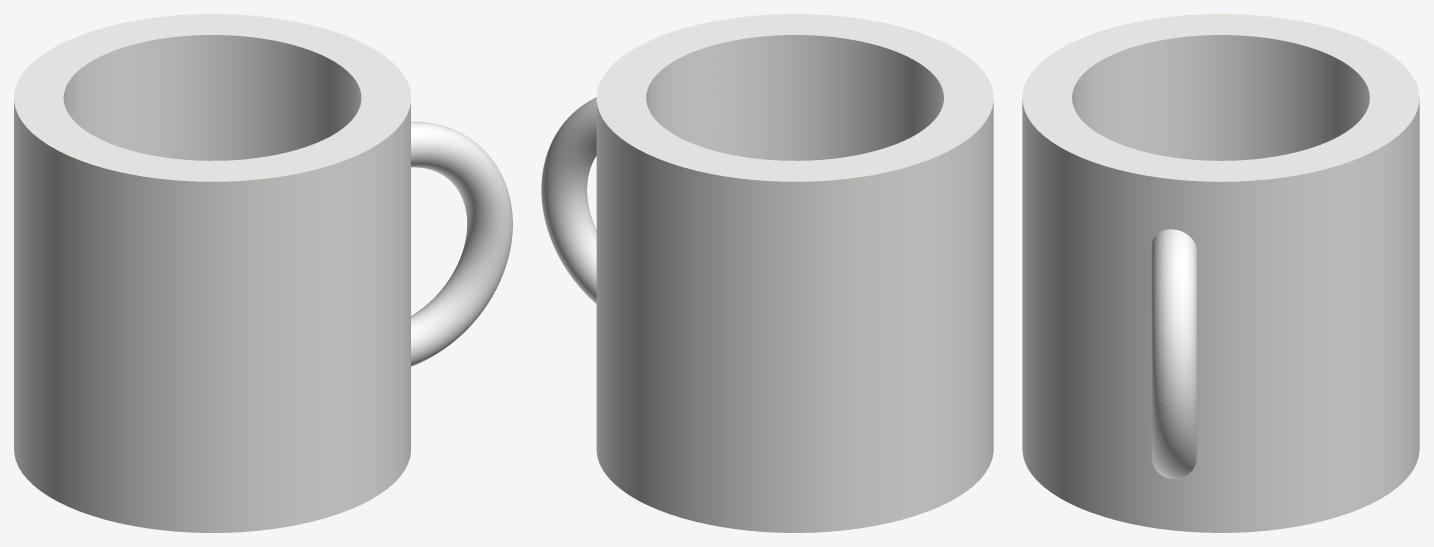
The model's file is coffee_mug.glb.
3 views of the same model, side by side, from view 1: azimuth 30°, elevation 25°; view 2: azimuth 150°, elevation 25°; view 3: azimuth 270°, elevation 25° (orthographic).
Visible parts, largest first — view 1: Object_5, Object_11, Object_9; view 2: Object_5, Object_9, Object_11; view 3: Object_5, Object_9, Object_11.
Part boxes in pixels (left/top/right/bottom): Object_5: left=14, top=14, right=410, bottom=532; Object_11: left=411, top=224, right=512, bottom=366; Object_9: left=411, top=121, right=512, bottom=233; Object_5: left=596, top=14, right=993, bottom=532; Object_9: left=541, top=97, right=596, bottom=199; Object_11: left=541, top=191, right=596, bottom=303; Object_5: left=1022, top=14, right=1419, bottom=532; Object_9: left=1151, top=229, right=1197, bottom=402; Object_11: left=1151, top=394, right=1197, bottom=478.
Bounding box in the file's own units: 0.6287 × 0.473 × 0.485.
Materials: 3 (3 with a texture image).
